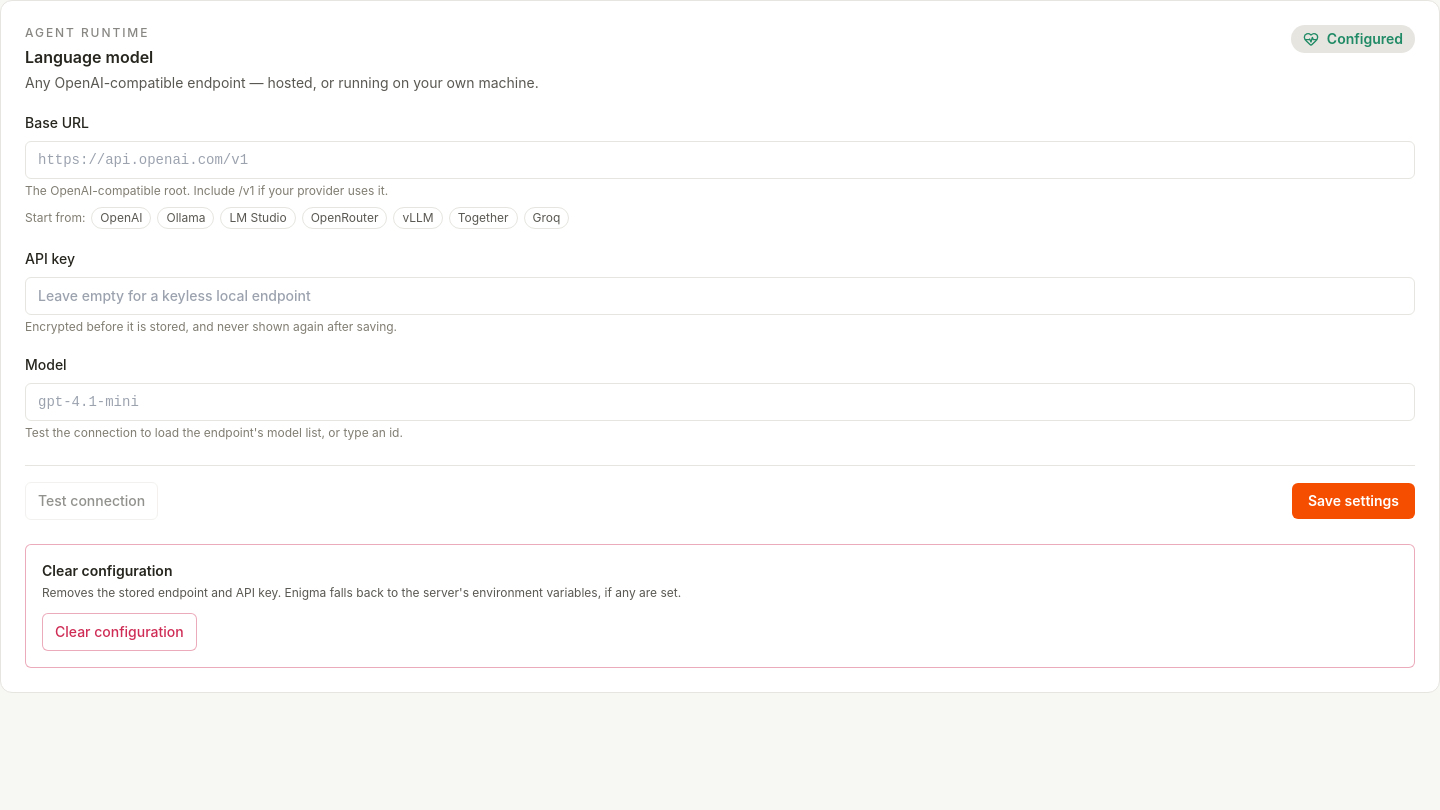
Scenario: LlmSettingsPanel › fills the base URL from a provider preset
Click the button "Ollama": (186, 218) [158,207,214,229]
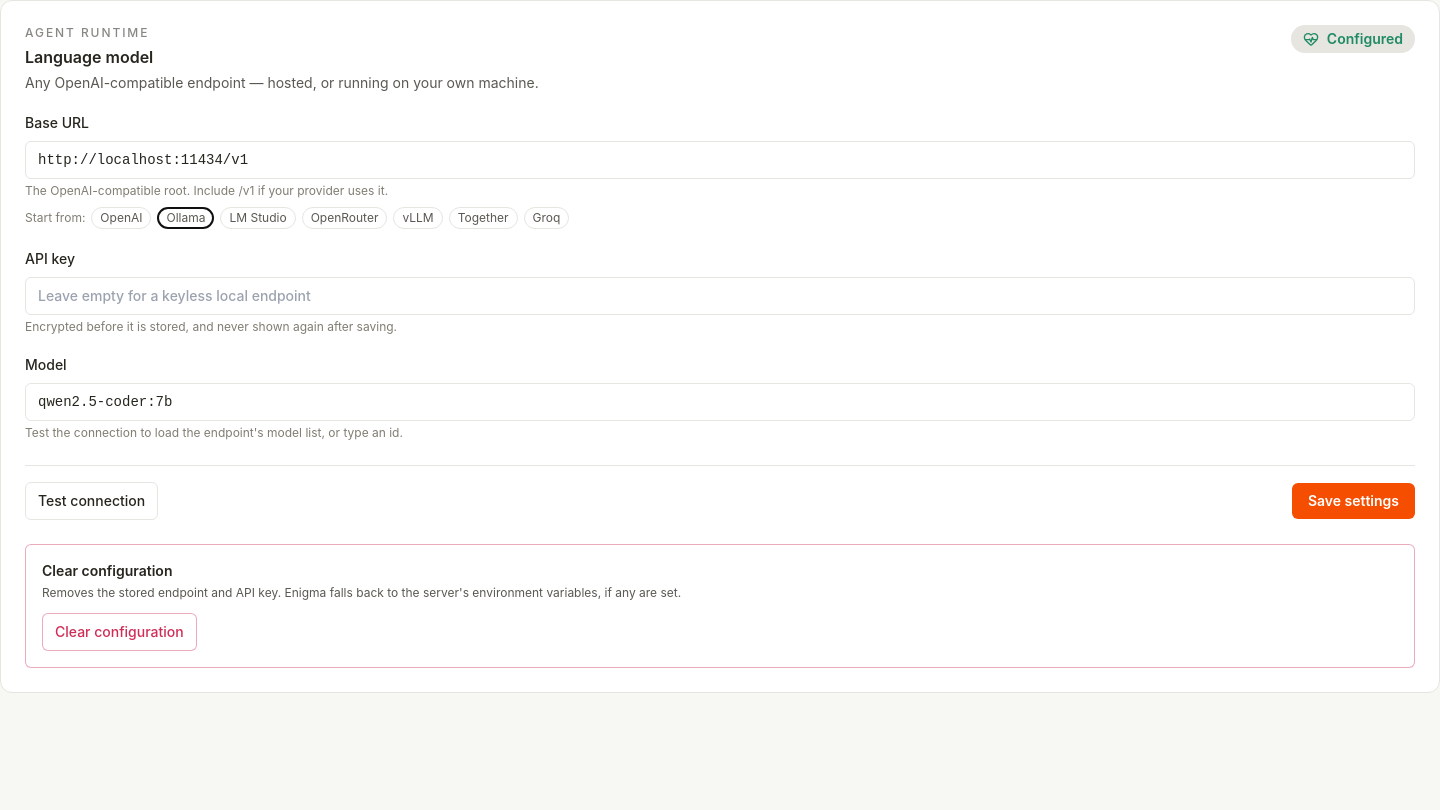
Now the field labelled "Base URL" holds "http://localhost:11434/v1", box [25,141,1415,179]
Now the field labelled "Model" holds "qwen2.5-coder:7b", box [25,383,1415,421]
